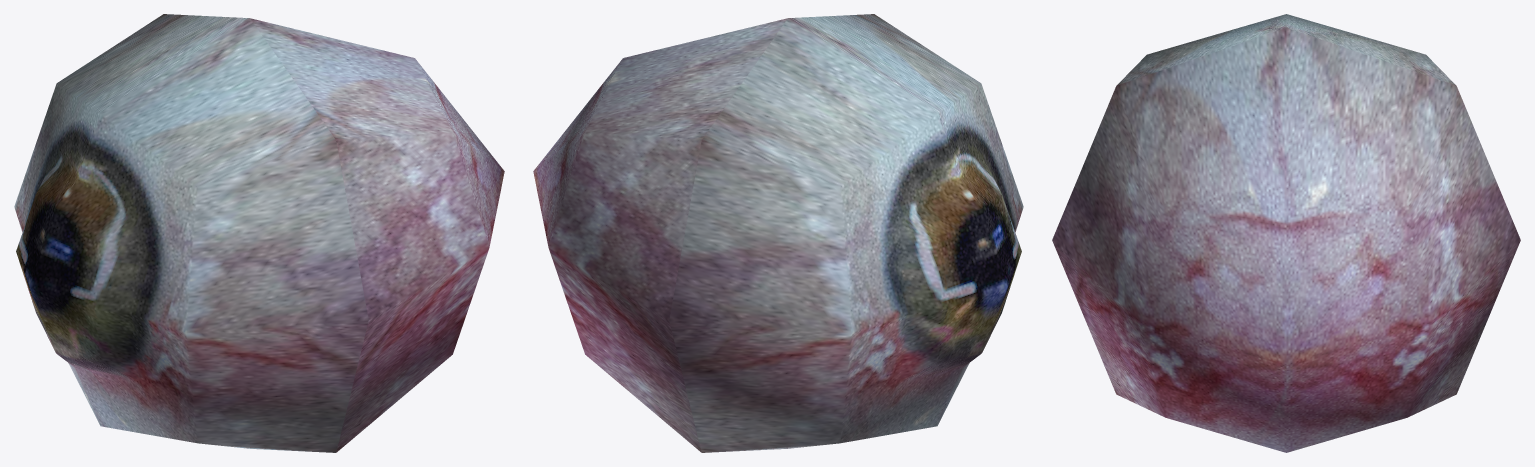
Rendered from Creepy eye.fbx.
3 views of the same model, side by side, from view 1: azimuth 30°, elevation 25°; view 2: azimuth 150°, elevation 25°; view 3: azimuth 270°, elevation 25° (orthographic).
Parts seen in each view (by area): view 1: Cube.667; view 2: Cube.667; view 3: Cube.667.
Part boxes in pixels (x1,y1,x2,y2): Cube.667: (14,14,504,452); Cube.667: (533,14,1023,452); Cube.667: (1052,14,1520,452).
Bounding box in the file's own units: 194 × 168 × 168.
